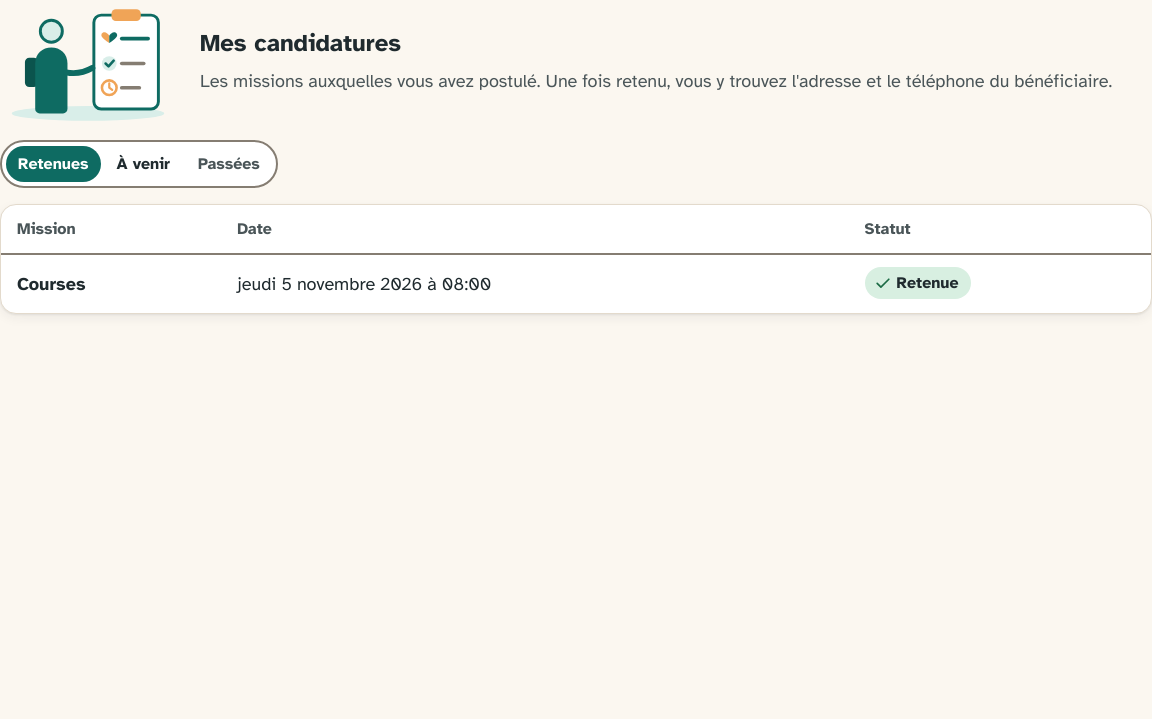
Test: StudentApplicationsTable › tells the student whether a completed mission is declared to the CESU
The image size is (1152, 719).
Step 1. Click the row "Courses jeudi 5 novembre 2026 à 08:00 Retenue" → (364, 284), box [1,255,1151,313]
(page scrolled)
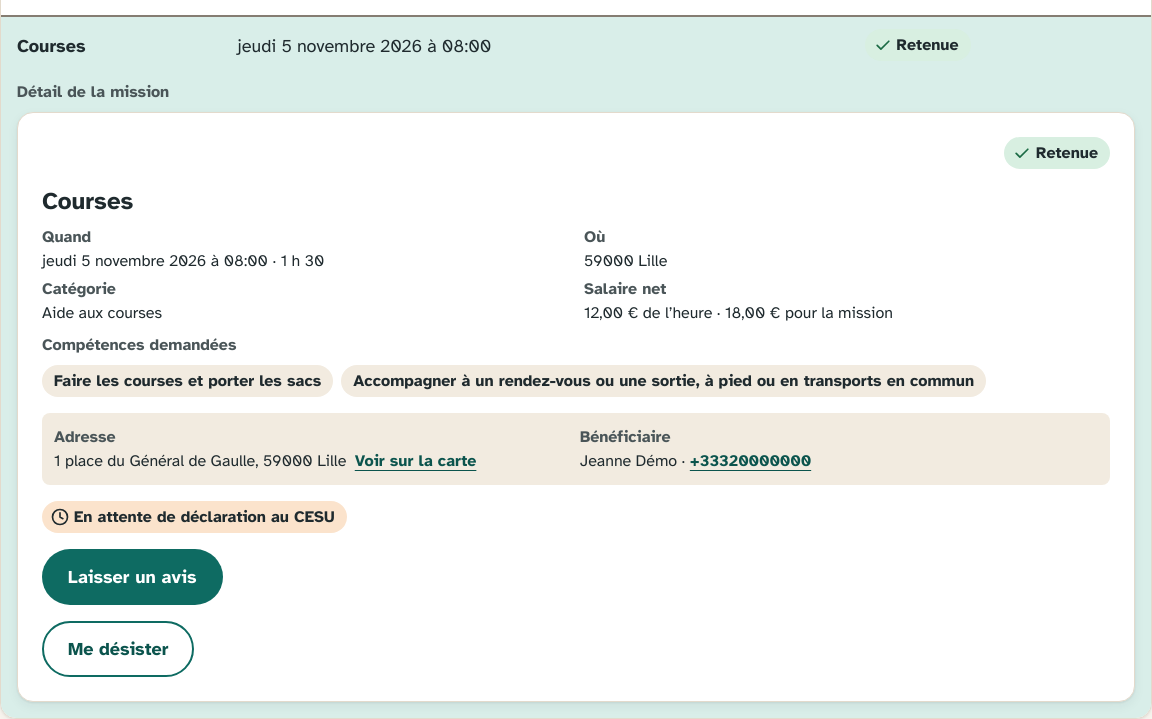
Expected: the row with id "application-detail" shows "En attente de déclaration au CESU", [74,507,335,527]
